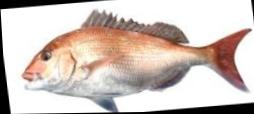fish: (21, 9, 252, 113)
